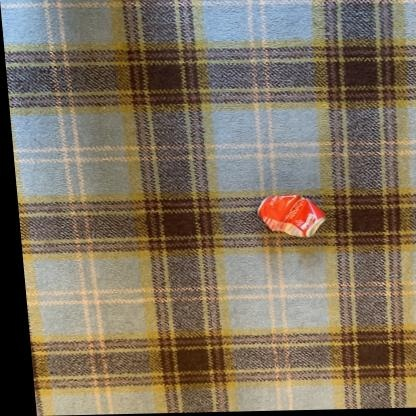trash: (258, 195, 324, 236)
